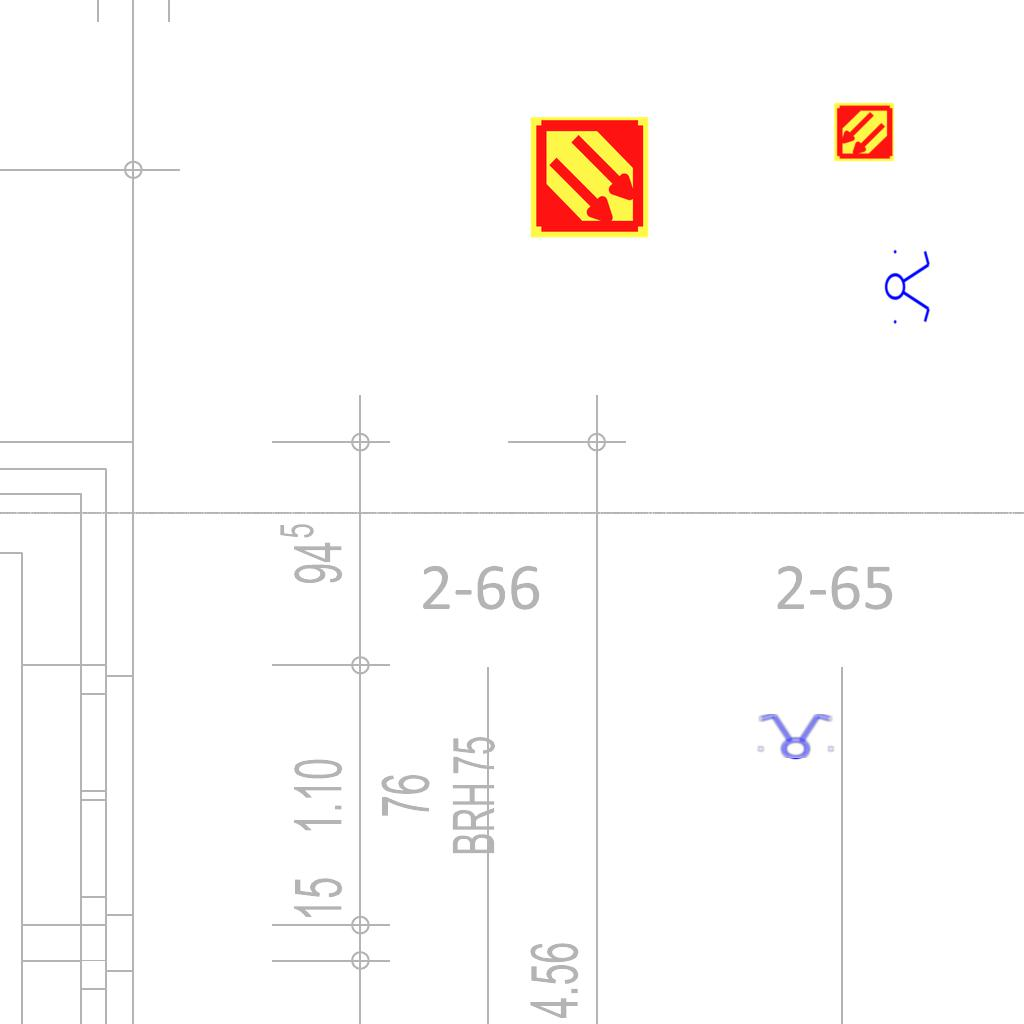ASR_Ansaugrauchmelder: (527, 115, 652, 240), (833, 101, 895, 163)
Serienschalter: (884, 244, 932, 328), (753, 712, 837, 760)
